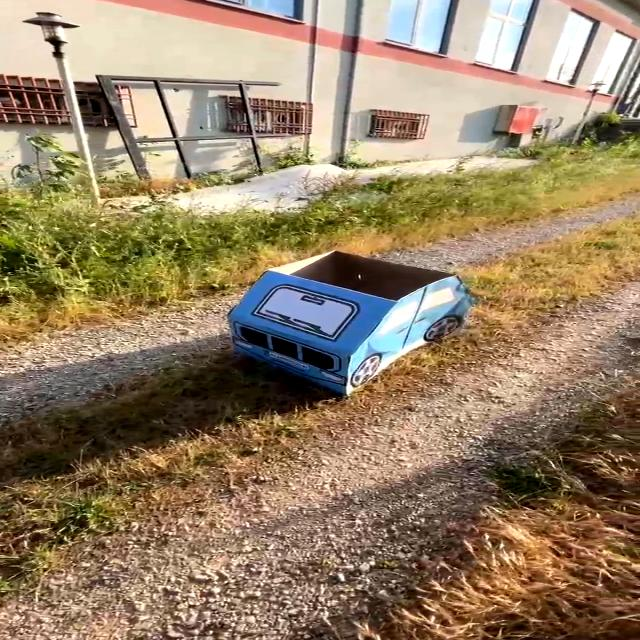blue_car: (146, 222, 530, 407)
